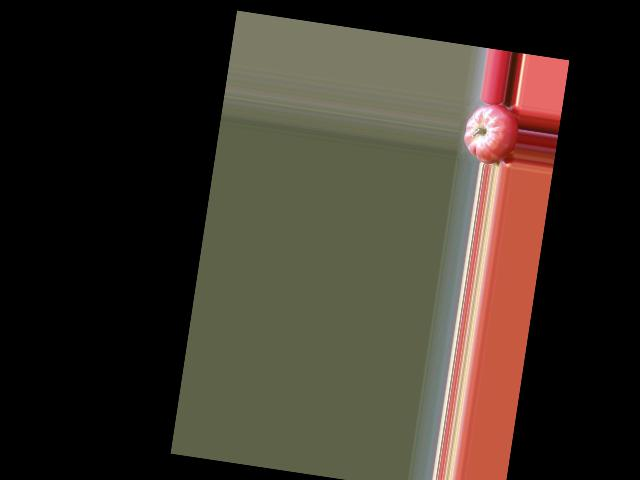tomato: (461, 100, 522, 168)
